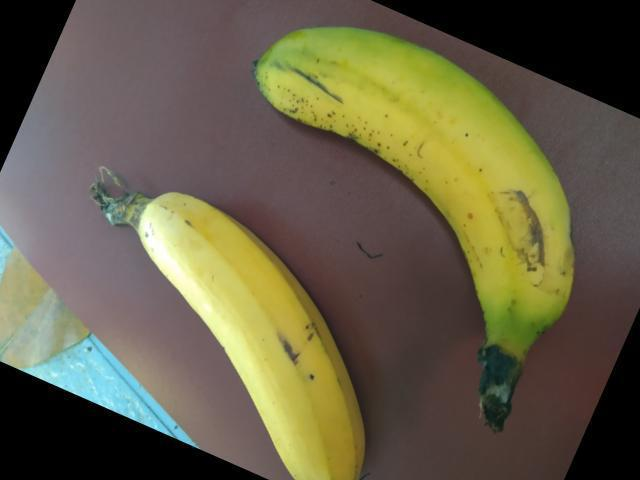freshripe: (86, 168, 373, 479)
ripe: (261, 28, 601, 390)
